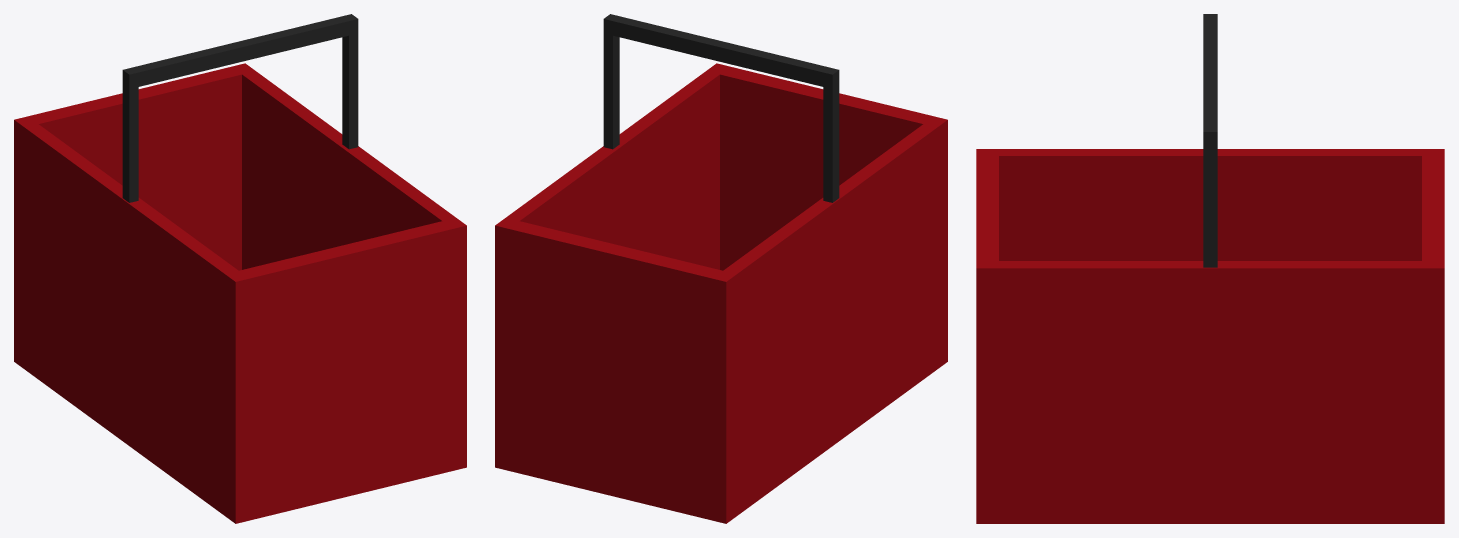
The model's file is Cesta.glb.
3 renders of one model, left to right at view 1: azimuth 30°, elevation 25°; view 2: azimuth 150°, elevation 25°; view 3: azimuth 270°, elevation 25°, orthographic. The views are drawn at different scales.
Parts seen in each view (by area): view 1: Cube, Cube.002; view 2: Cube, Cube.002; view 3: Cube, Cube.002.
Part boxes in pixels (bbox=[...]): Cube: bbox=[14, 63, 466, 523]; Cube.002: bbox=[122, 14, 358, 202]; Cube: bbox=[495, 63, 947, 523]; Cube.002: bbox=[603, 14, 839, 202]; Cube: bbox=[976, 149, 1444, 523]; Cube.002: bbox=[1203, 14, 1217, 267].
Size of the model in its own units: 2 by 3.06 by 3.32.
